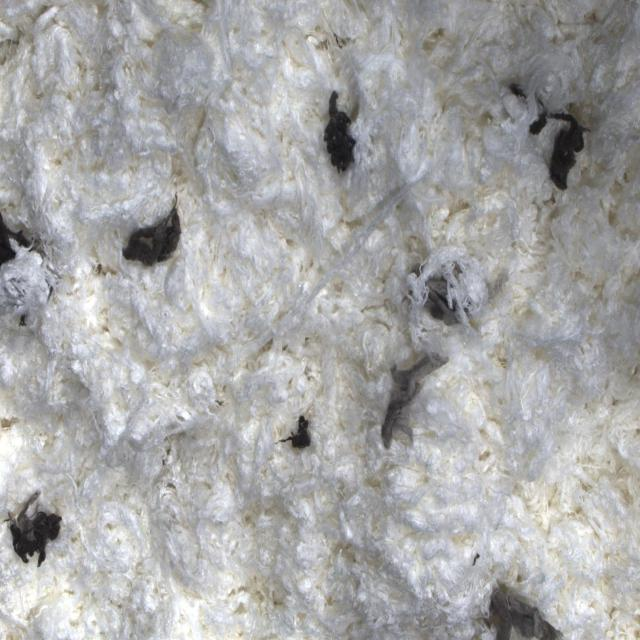dust: (470, 559, 571, 640), (525, 82, 597, 195), (406, 244, 500, 329), (371, 352, 451, 443), (0, 210, 53, 330), (0, 487, 63, 577), (119, 193, 187, 269), (320, 82, 367, 182), (274, 397, 319, 467), (505, 80, 530, 105)
